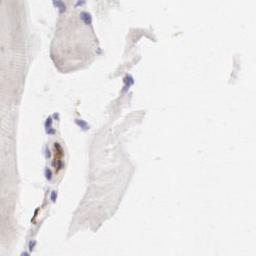nucleus: (123, 73, 135, 94), (75, 119, 89, 132), (53, 1, 67, 12), (81, 12, 92, 25), (42, 145, 52, 159), (50, 190, 58, 205), (29, 241, 38, 252), (44, 167, 52, 179), (45, 127, 55, 136), (75, 1, 87, 7), (45, 117, 52, 126), (54, 142, 61, 150), (20, 251, 30, 256), (96, 47, 103, 54), (60, 161, 65, 169), (53, 112, 59, 118)
positive_cell: (54, 141, 64, 158), (55, 161, 66, 174)
